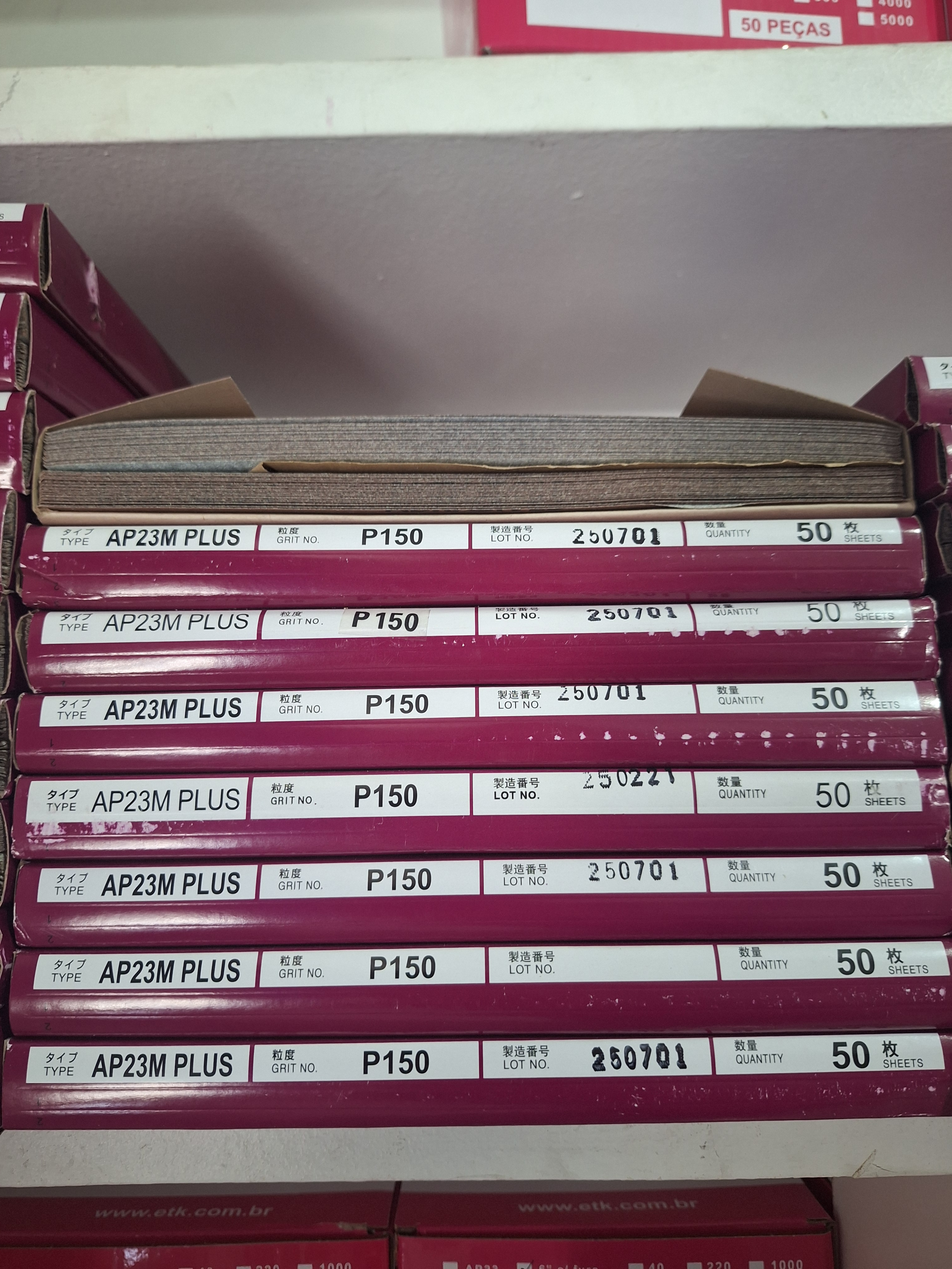grao: (251, 771, 473, 819), (261, 601, 477, 644), (253, 1041, 481, 1081), (260, 946, 488, 986), (259, 858, 481, 896), (256, 517, 471, 555), (259, 689, 478, 726)
objects: (8, 505, 952, 1149)
